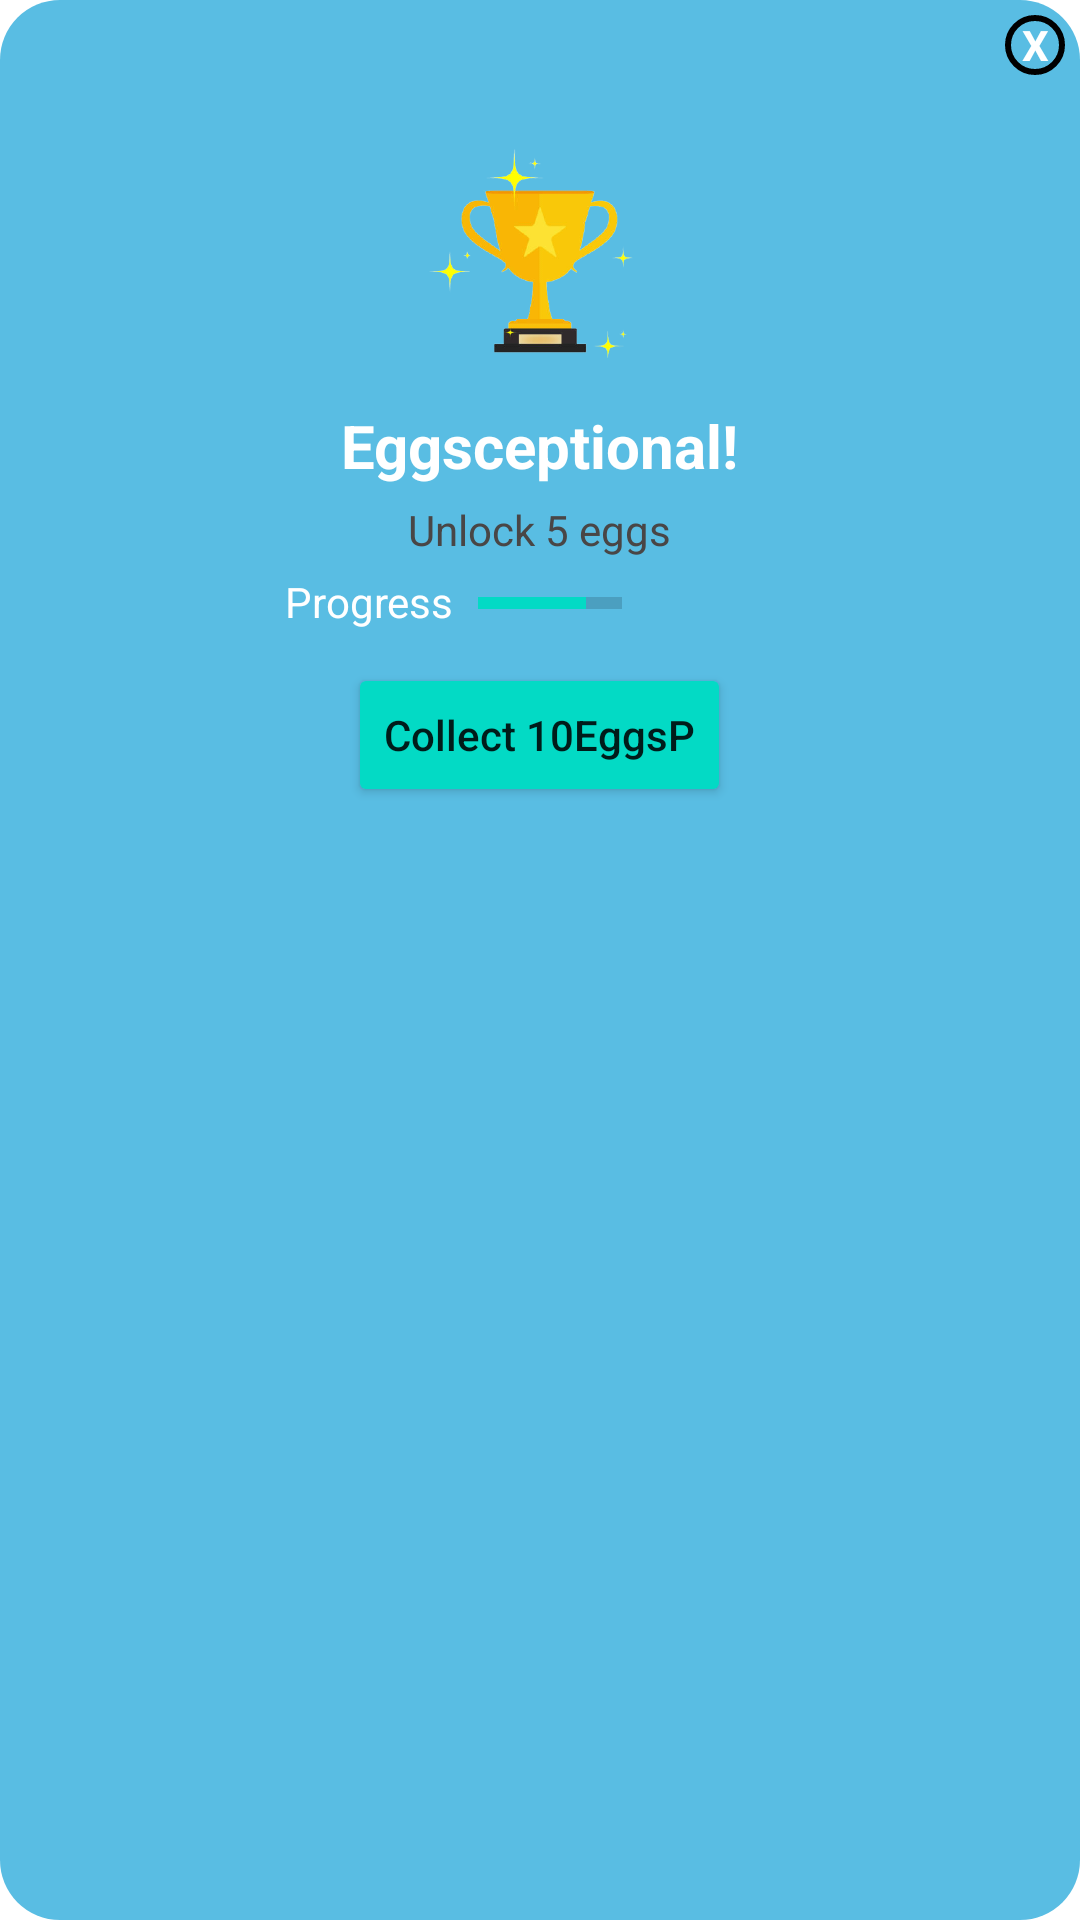

Point at icon controls on the screen. Image size 1080×1920, points as point (x, y).
trophy: point (531, 254)
